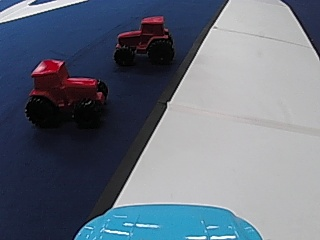tractor: (22, 55, 106, 128), (112, 15, 177, 66)
